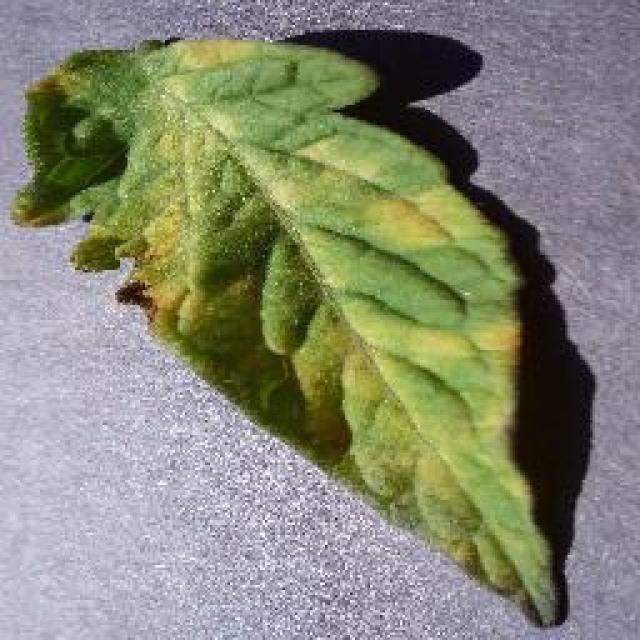Tomato___Leaf_Mold: (12, 38, 560, 622)
